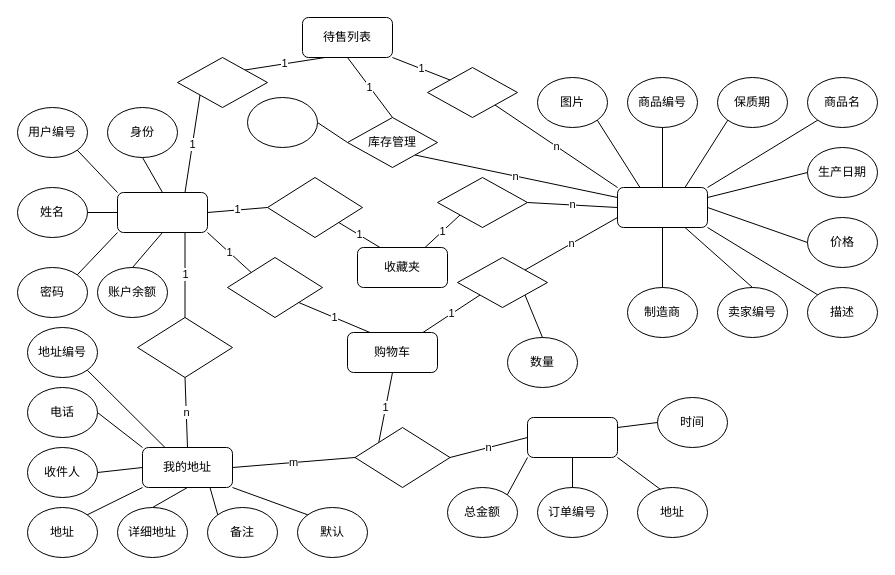
This 895x575 diagram has some shape labels left out. The centre of each missing label's shape, as x and y in pixels:
加购物车: point (502, 282)
售卖中: point (222, 82)
商品: point (662, 207)
地址管理: point (184, 347)
库存: point (282, 122)
我的收藏夹: point (314, 207)
我的购物车: point (274, 287)
收藏: point (482, 202)
添加商品: point (472, 92)
用户: point (162, 212)
结算: point (402, 457)
订单: point (572, 437)
